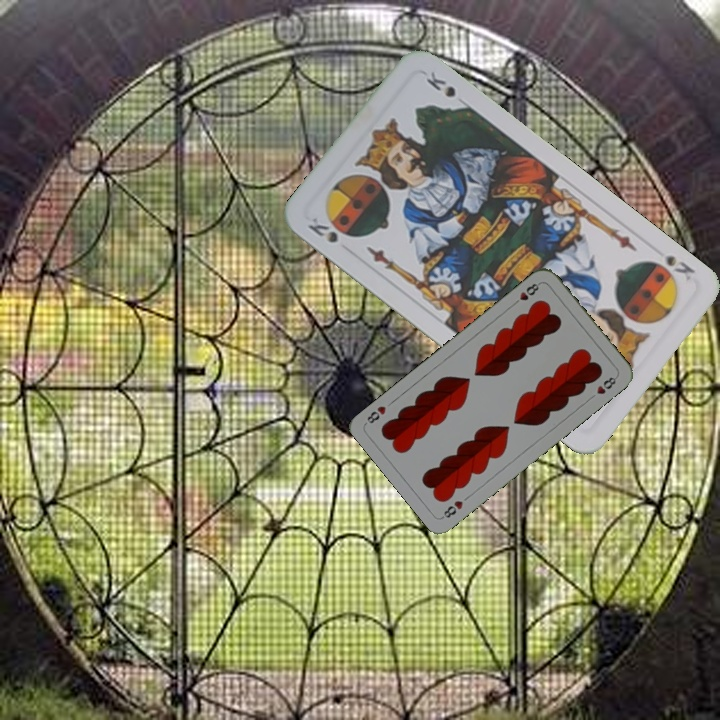H8: (509, 279, 543, 308), (438, 496, 466, 521)
SK: (660, 250, 698, 284), (303, 213, 341, 246)
